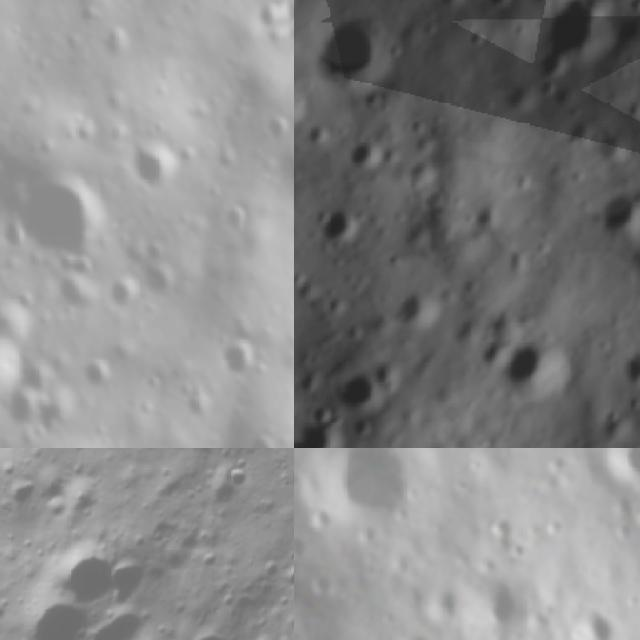crater: (294, 0, 429, 128), (476, 314, 584, 426), (518, 0, 630, 98), (310, 448, 426, 538), (7, 169, 106, 270), (39, 529, 135, 624), (314, 350, 401, 436), (0, 578, 103, 640), (300, 198, 373, 272), (376, 280, 448, 353), (578, 179, 640, 260), (325, 129, 393, 196), (462, 569, 528, 637), (122, 136, 188, 202), (484, 68, 545, 128), (548, 112, 604, 170), (404, 174, 460, 228), (136, 255, 188, 312), (211, 336, 268, 386), (51, 265, 100, 320), (29, 398, 85, 446), (0, 467, 49, 521), (93, 270, 141, 321), (74, 350, 122, 400), (464, 198, 509, 244), (214, 200, 256, 248), (610, 338, 640, 404), (563, 604, 617, 640), (619, 98, 640, 189), (0, 335, 24, 412), (0, 388, 38, 436), (294, 69, 315, 153), (98, 26, 140, 67), (247, 0, 283, 47), (175, 619, 249, 640), (258, 115, 294, 152), (417, 0, 472, 24), (474, 0, 521, 25), (233, 426, 284, 448), (294, 530, 317, 573), (622, 59, 640, 110), (392, 627, 436, 640)
